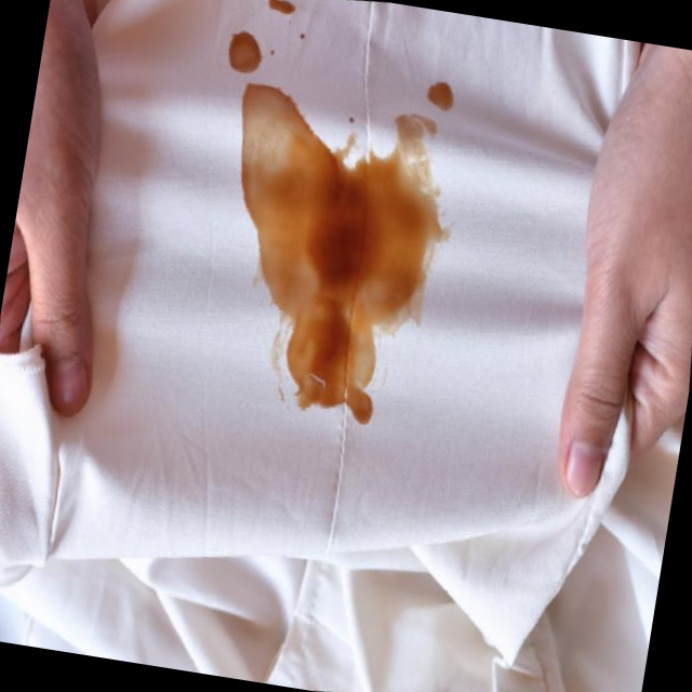coffee: (231, 97, 451, 443), (220, 26, 267, 76), (423, 75, 460, 110)
